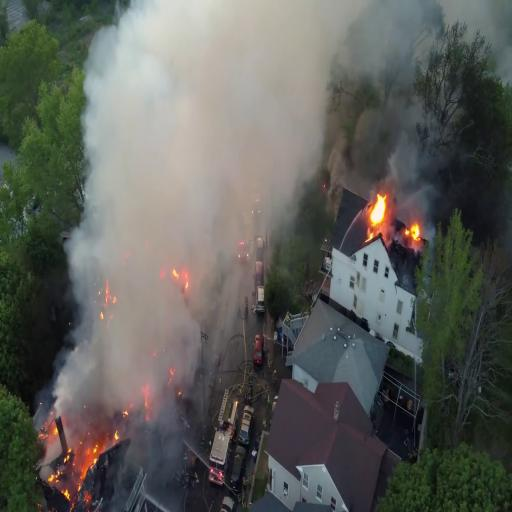fire: (366, 184, 384, 235)
smoke: (107, 28, 202, 368)
